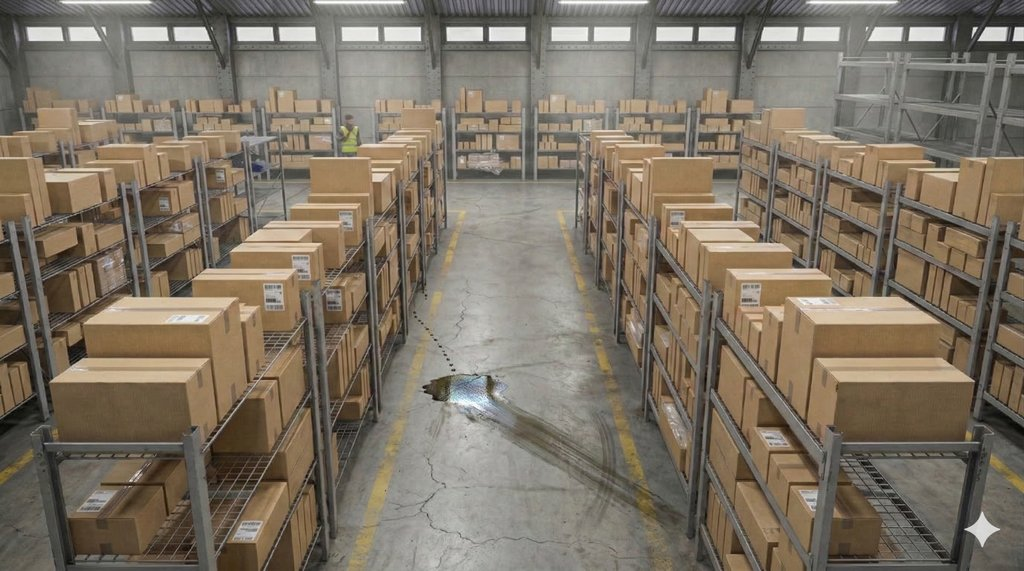empty_shelf: (840, 26, 985, 142), (861, 453, 976, 565), (157, 459, 246, 558), (241, 123, 295, 218), (989, 30, 1024, 152)
person: (324, 105, 366, 157)
safety_vest: (338, 123, 359, 154)
spill: (411, 341, 692, 519)
